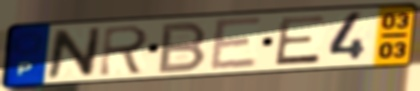4: (326, 10, 373, 65)
B: (155, 20, 211, 76)
E: (208, 15, 264, 73), (272, 13, 328, 68)
N: (45, 26, 104, 81)
R: (96, 23, 152, 78)
